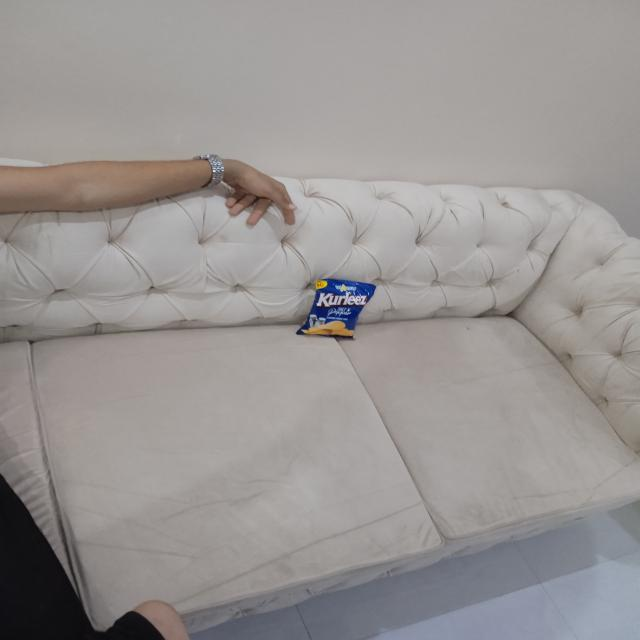Plastic: (294, 270, 378, 346)
